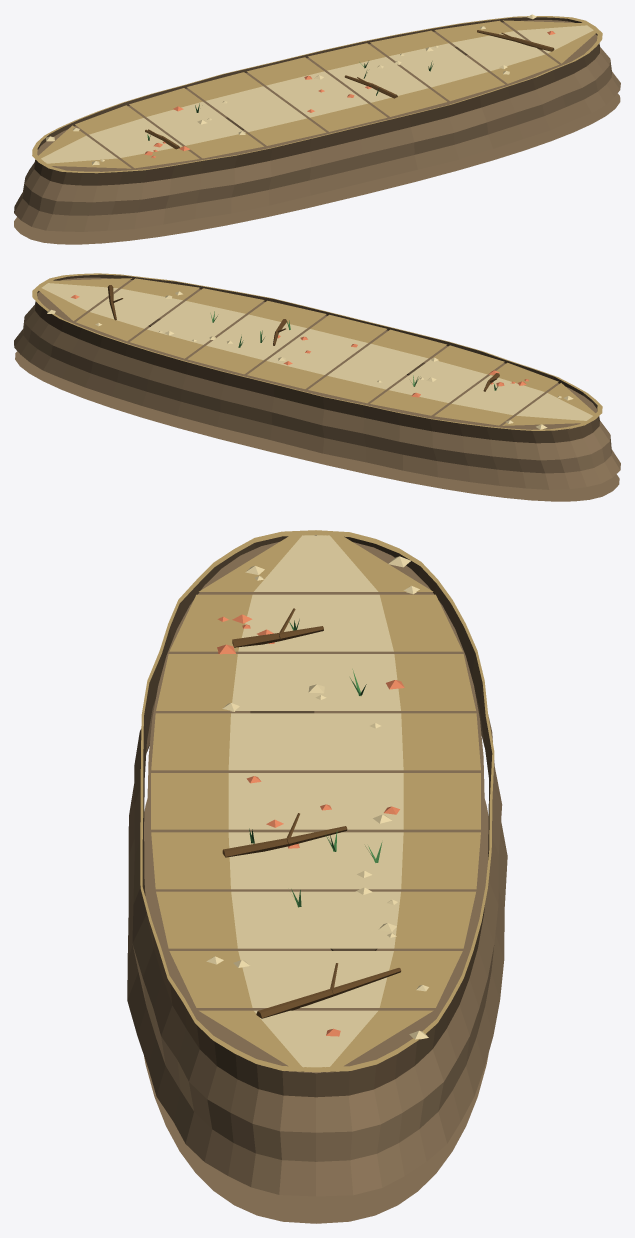
The model's file is SandBarL.fbx.
3 views of the same model, one above another, from view 1: azimuth 30°, elevation 25°; view 2: azimuth 150°, elevation 25°; view 3: azimuth 270°, elevation 25° (orthographic). The views are drawn at different scales.
Visible parts, largest first — view 1: SandBarL; view 2: SandBarL; view 3: SandBarL.
Part boxes in pixels (bbox=[...]): SandBarL: bbox=[14, 14, 620, 244]; SandBarL: bbox=[14, 273, 620, 501]; SandBarL: bbox=[127, 530, 507, 1223].
Bounding box in the file's own units: 3240 × 411 × 902.
